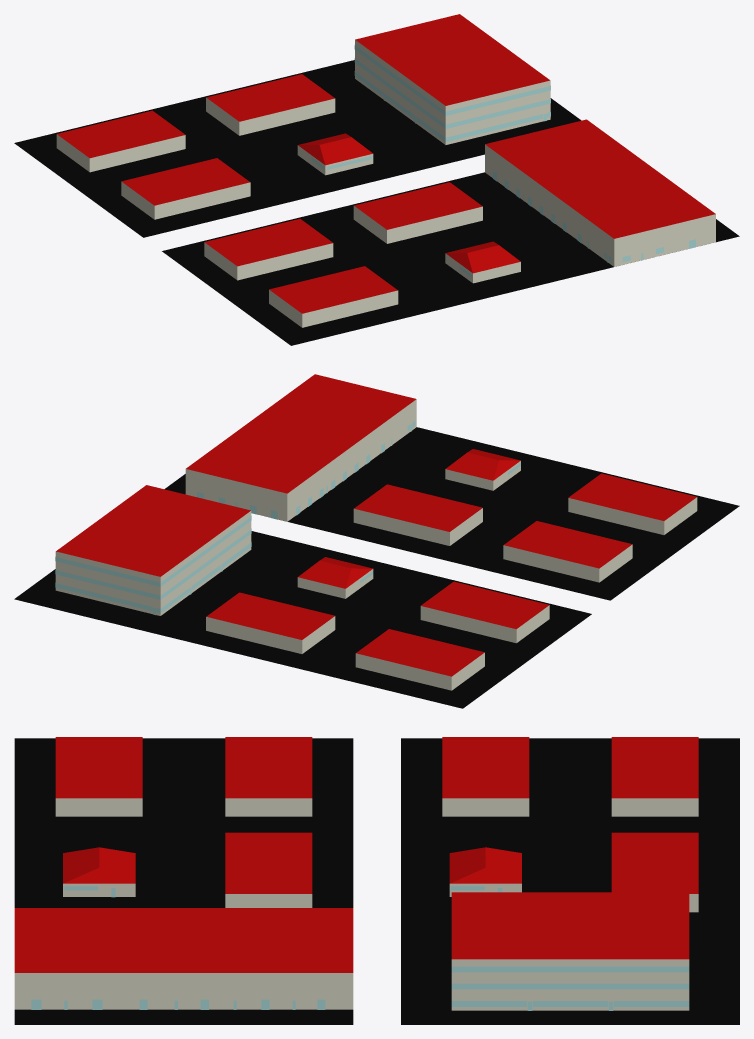
3 views of the same model, one above another, from view 1: azimuth 30°, elevation 25°; view 2: azimuth 150°, elevation 25°; view 3: azimuth 270°, elevation 25° (orthographic). The views are drawn at different scales.
Visible parts, largest first — view 1: Ground, Roofs, Walls, Windows; view 2: Ground, Roofs, Walls, Windows; view 3: Ground, Roofs, Walls, Windows.
Part boxes in pixels (x1,y1,x2,y2): Ground: (14, 60, 739, 345); Roofs: (57, 14, 715, 313); Walls: (56, 40, 715, 327); Windows: (311, 45, 695, 277); Ground: (14, 427, 739, 708); Roofs: (56, 374, 696, 676); Walls: (55, 399, 697, 690); Windows: (55, 421, 520, 615); Ground: (14, 738, 739, 1024); Roofs: (14, 737, 698, 972); Walls: (14, 798, 698, 1010); Windows: (31, 886, 689, 1010).
Bounding box in the file's own units: 142 × 11.89 × 153.
